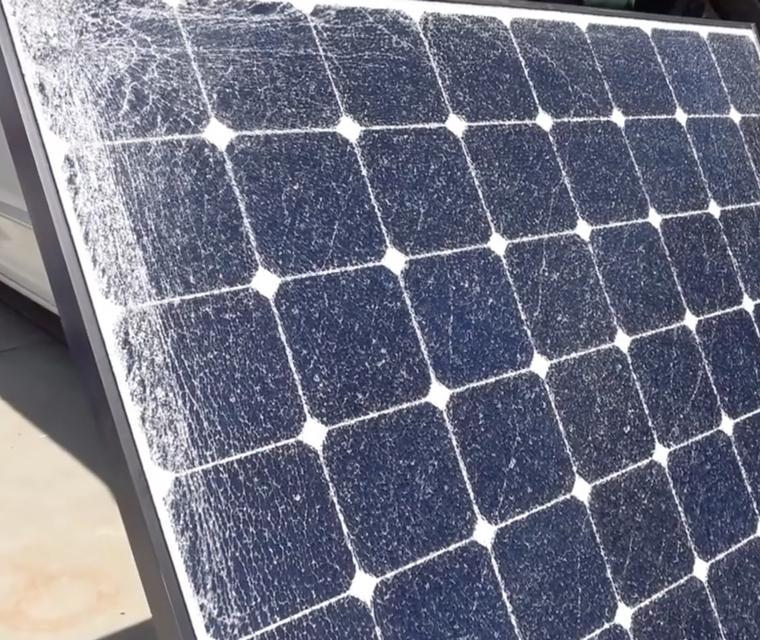Crack: (215, 37, 759, 639), (48, 130, 210, 286), (39, 3, 205, 128), (152, 290, 236, 484)
